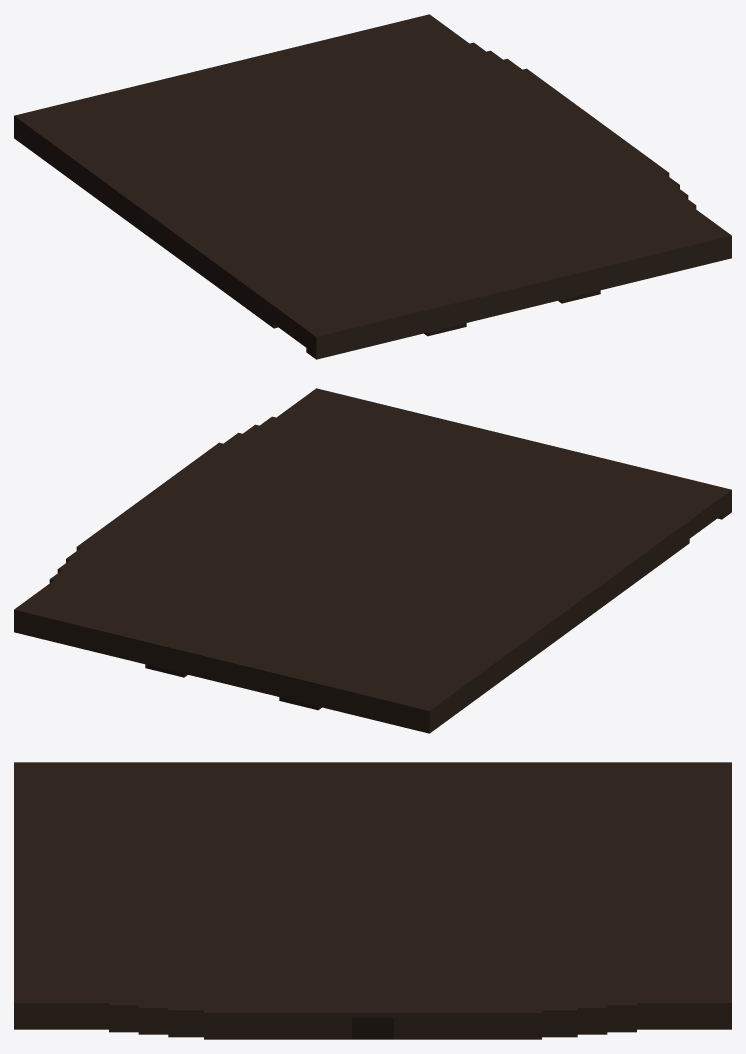
File: Ceiling.fbx
3 views of the same model, one above another, from view 1: azimuth 30°, elevation 25°; view 2: azimuth 150°, elevation 25°; view 3: azimuth 270°, elevation 25° (orthographic). The views are drawn at different scales.
Parts seen in each view (by area): view 1: Ceiling.Merged; view 2: Ceiling.Merged; view 3: Ceiling.Merged.
Boxes of the visible parts, <box> form: Ceiling.Merged: <box>14,14,731,359</box>; Ceiling.Merged: <box>14,388,731,733</box>; Ceiling.Merged: <box>14,762,731,1039</box>.
Size of the model in its own units: 6.7 by 1.07 by 8.11.
